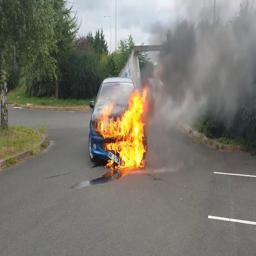fire: (98, 83, 150, 169)
